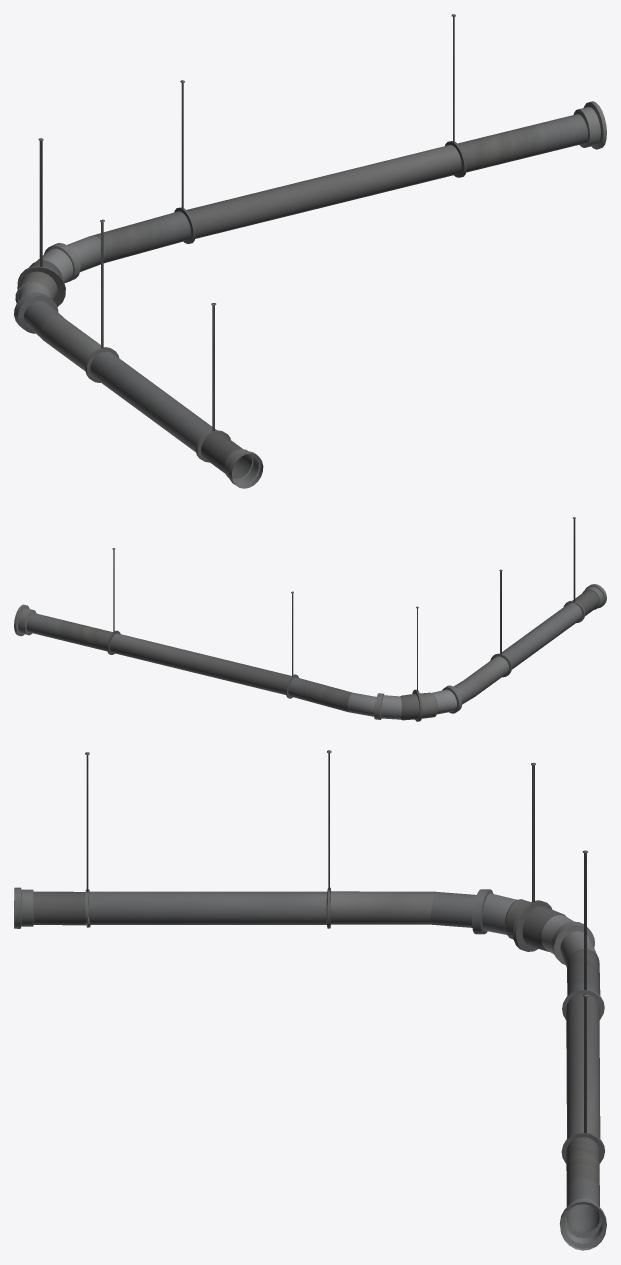
The model's file is pipeb.fbx.
3 renders of one model, top to bottom at view 1: azimuth 30°, elevation 25°; view 2: azimuth 150°, elevation 25°; view 3: azimuth 270°, elevation 25°, orthographic. The views are drawn at different scales.
Parts seen in each view (by area): view 1: pTorus1; view 2: pTorus1; view 3: pTorus1.
Part boxes in pixels (left/top/right/bottom): pTorus1: left=14, top=101, right=606, bottom=488; pTorus1: left=14, top=584, right=606, bottom=721; pTorus1: left=14, top=887, right=606, bottom=1250.
Size of the model in its own units: 37.84 by 9.85 by 28.5.
1 material, 1 textured.
